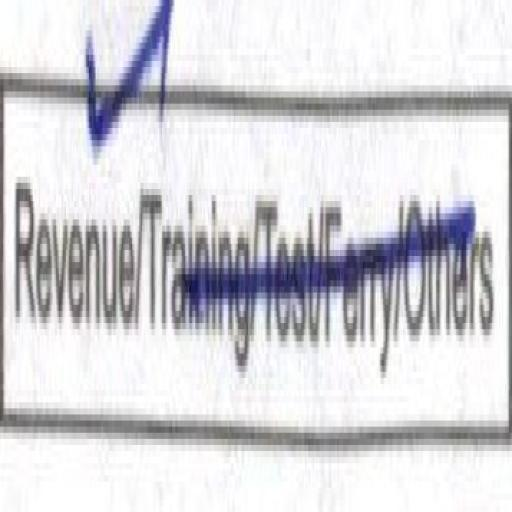check: (10, 5, 138, 445)
